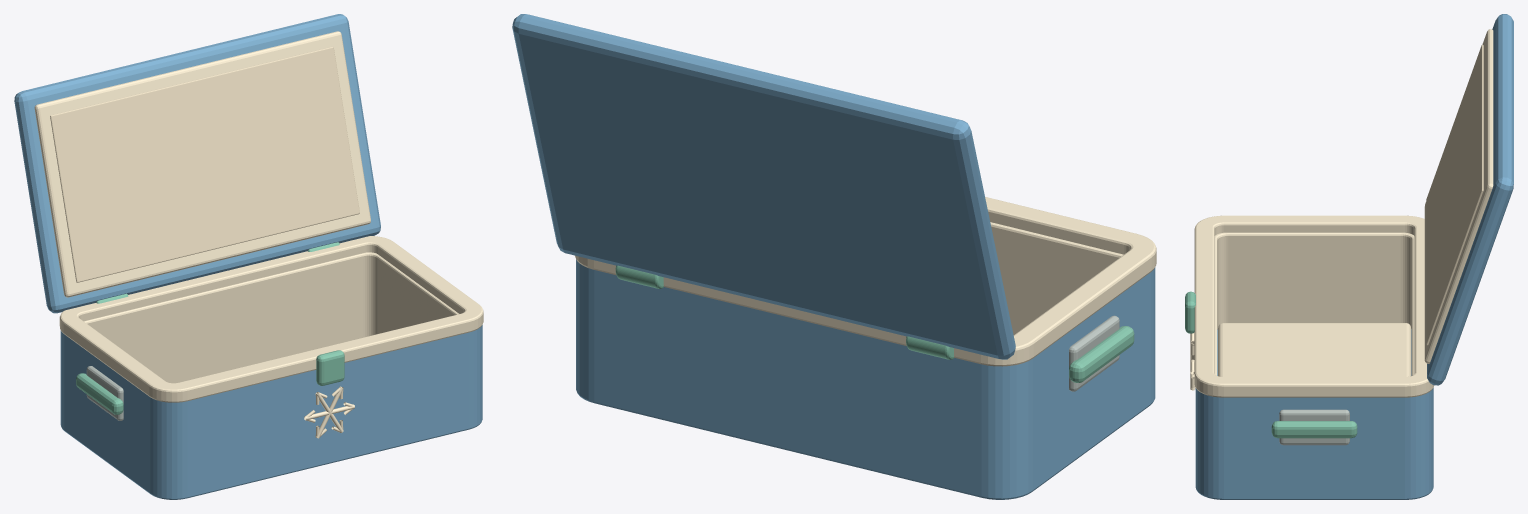
The model's file is icebox_open.glb.
3 renders of one model, left to right at view 1: azimuth 30°, elevation 25°; view 2: azimuth 150°, elevation 25°; view 3: azimuth 270°, elevation 25°, orthographic. The views are drawn at different scales.
Visible parts, largest first — view 1: Recessed lid center, Blue insulated shell, Cream inner walls, Thick cream rim, Rounded blue lid, Insulating lid liner, Front latch, Carrying grip, Handle bracket; view 2: Rounded blue lid, Blue insulated shell, Thick cream rim, Cream inner walls, Carrying grip, Handle bracket; view 3: Blue insulated shell, Cream inner walls, Thick cream rim, Cream inner floor, Recessed lid center, Rounded blue lid, Insulating lid liner, Carrying grip.001, Handle bracket.001, Front latch.
Part boxes in pixels (x1,y1,x2,y2): Recessed lid center: [50, 46, 359, 282]; Blue insulated shell: [60, 325, 482, 499]; Cream inner walls: [84, 252, 458, 383]; Thick cream rim: [59, 236, 483, 402]; Rounded blue lid: [14, 14, 380, 313]; Insulating lid liner: [34, 31, 370, 297]; Front latch: [316, 350, 344, 385]; Carrying grip: [76, 373, 123, 414]; Handle bracket: [86, 366, 123, 420]; Rounded blue lid: [512, 14, 1015, 359]; Blue insulated shell: [576, 259, 1155, 499]; Thick cream rim: [575, 197, 1156, 366]; Cream inner walls: [990, 222, 1123, 334]; Carrying grip: [1069, 326, 1134, 382]; Handle bracket: [1069, 315, 1119, 391]; Blue insulated shell: [1195, 388, 1433, 499]; Cream inner walls: [1214, 232, 1414, 375]; Thick cream rim: [1194, 215, 1434, 397]; Cream inner floor: [1218, 323, 1411, 376]; Recessed lid center: [1426, 44, 1483, 345]; Rounded blue lid: [1427, 14, 1513, 385]; Insulating lid liner: [1424, 29, 1493, 363]; Carrying grip.001: [1271, 421, 1357, 438]; Handle bracket.001: [1279, 409, 1349, 445]; Front latch: [1185, 291, 1195, 333].
Size of the model in its own units: 4.53 by 3.76 by 3.45.
